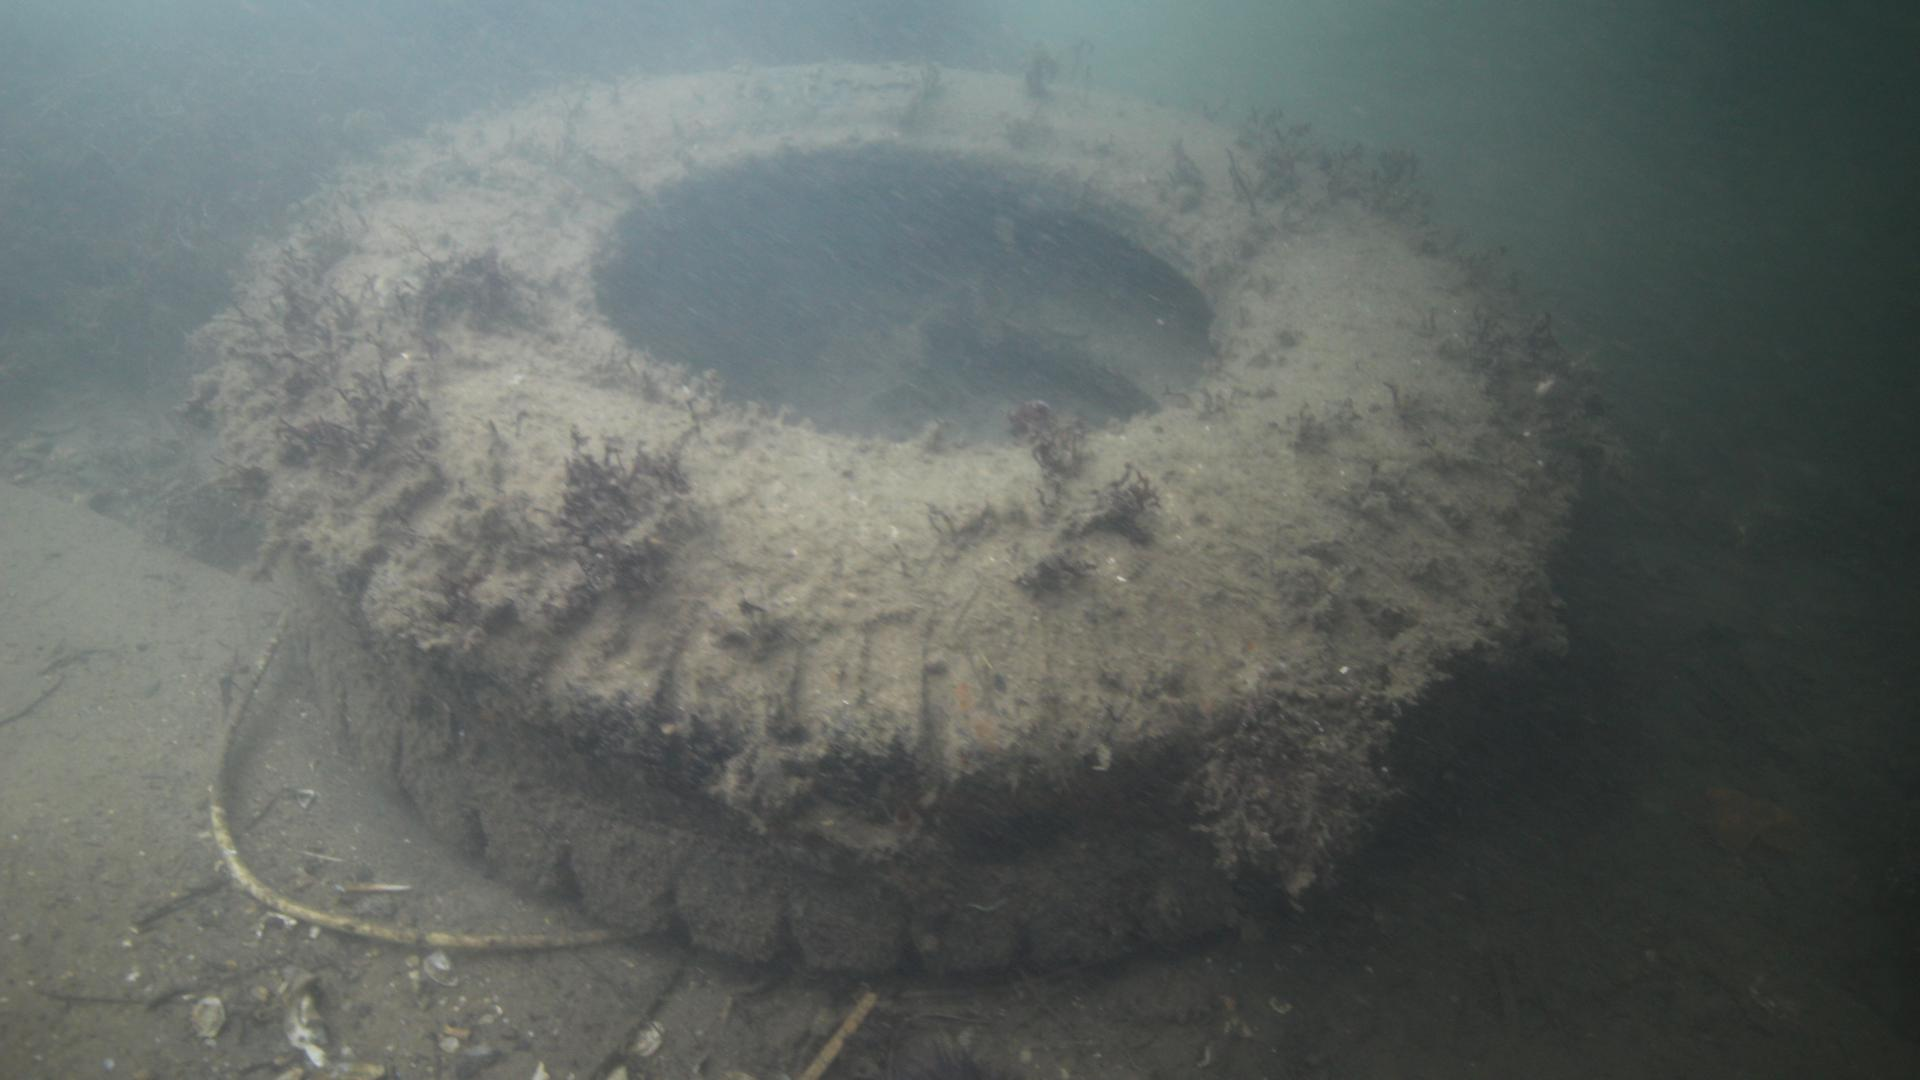tire: (212, 61, 1586, 973)
